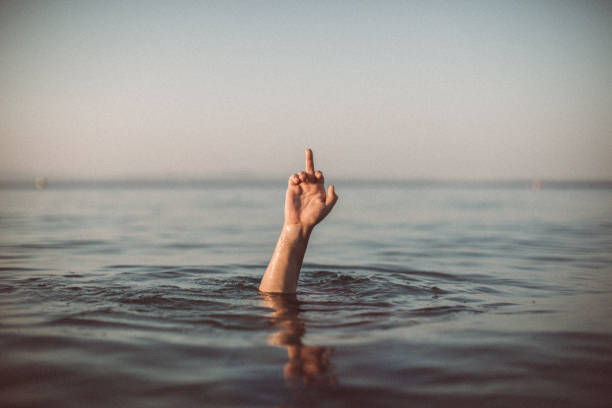insulting_gesture: (286, 147, 339, 236)
